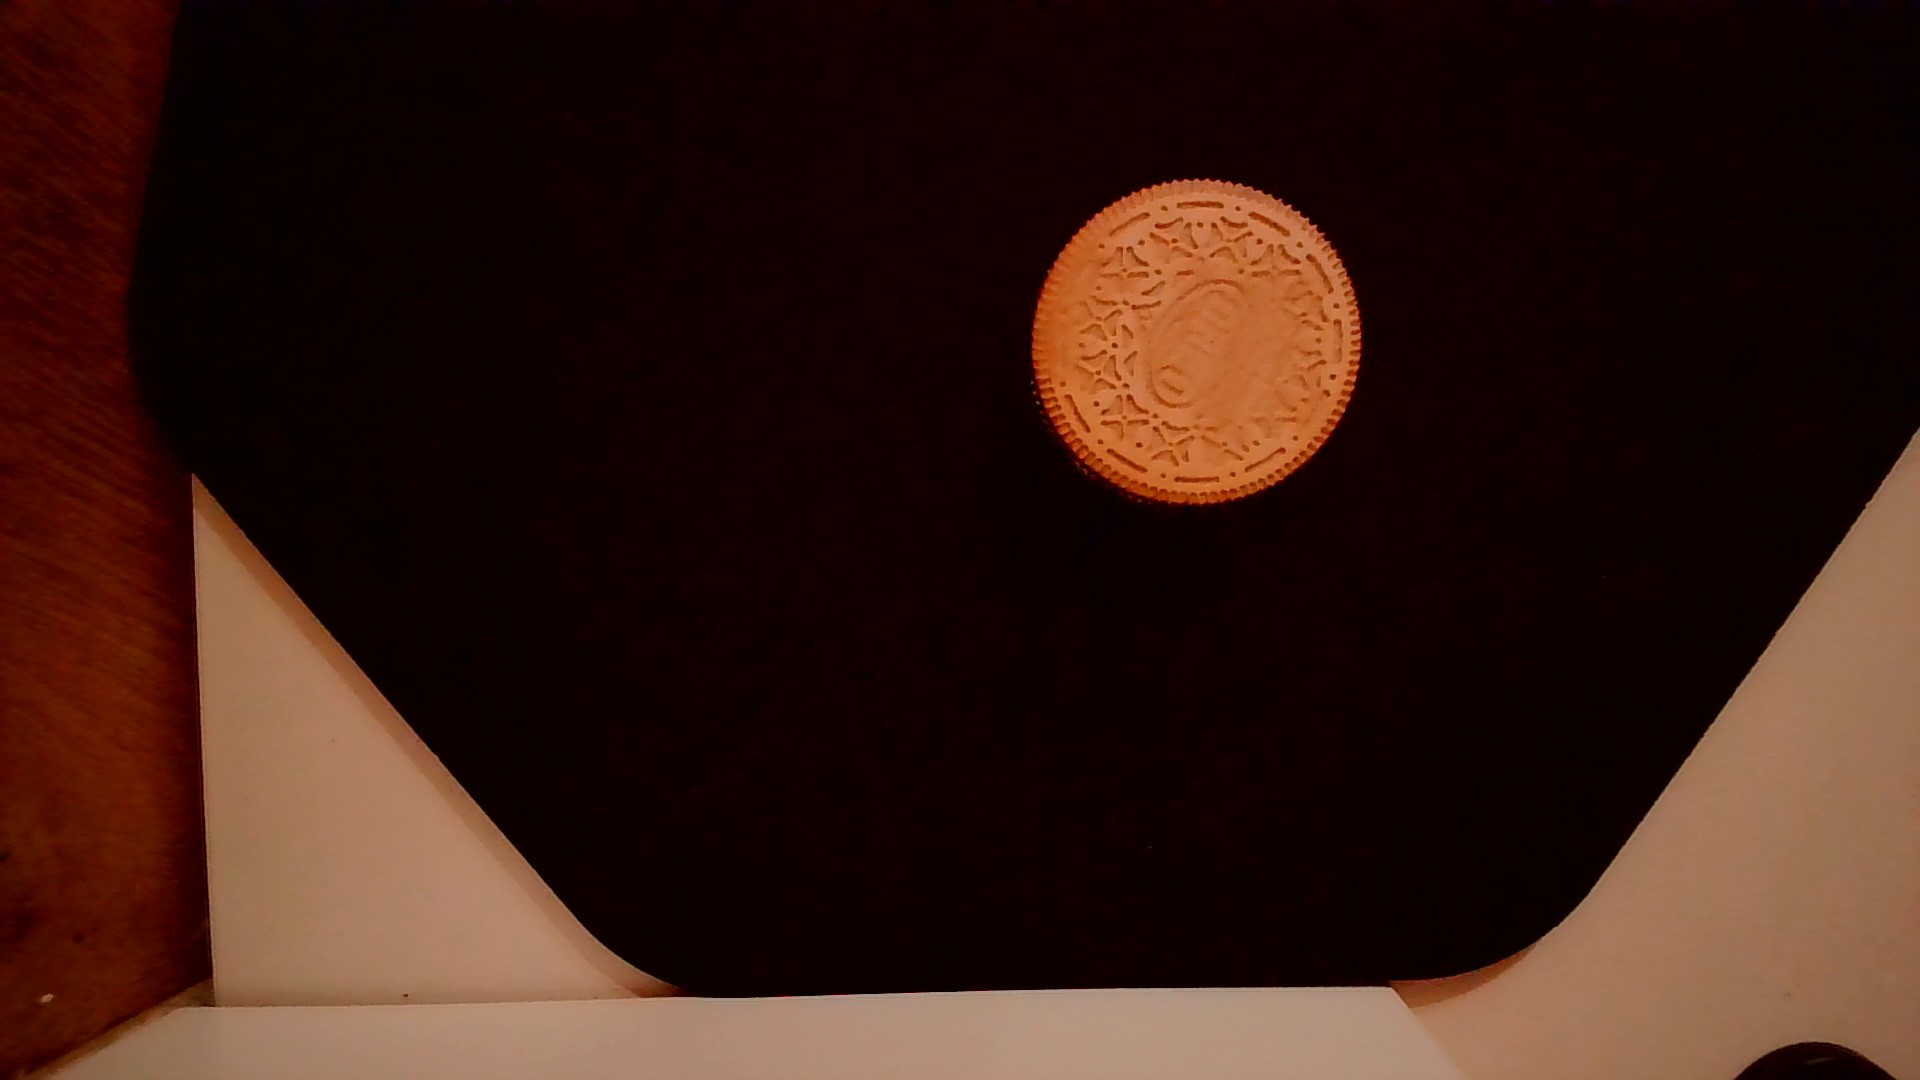Effacé: (1153, 276, 1283, 411), (1034, 235, 1093, 393)
Oréo: (1021, 169, 1369, 513)
